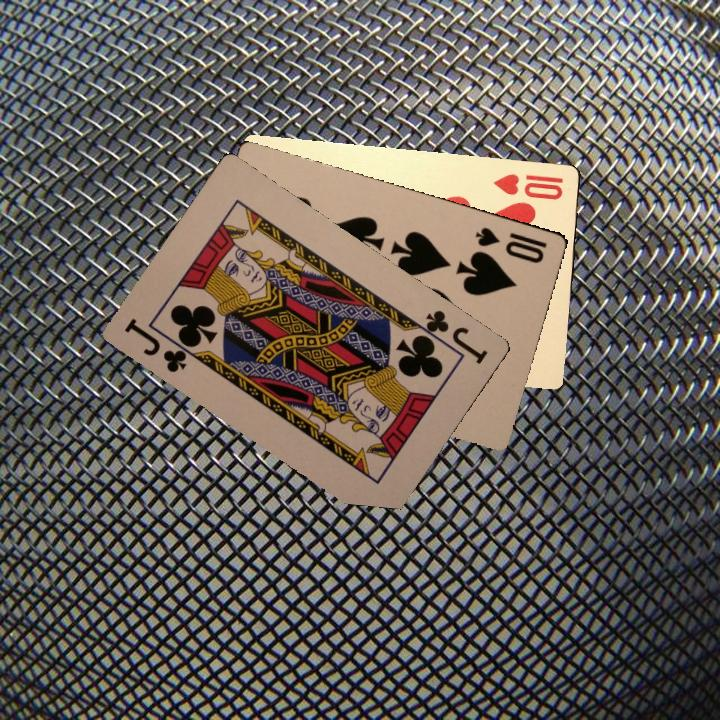10h: (489, 169, 566, 203)
10s: (471, 223, 549, 266)
Jc: (120, 313, 200, 376), (412, 305, 491, 367)
